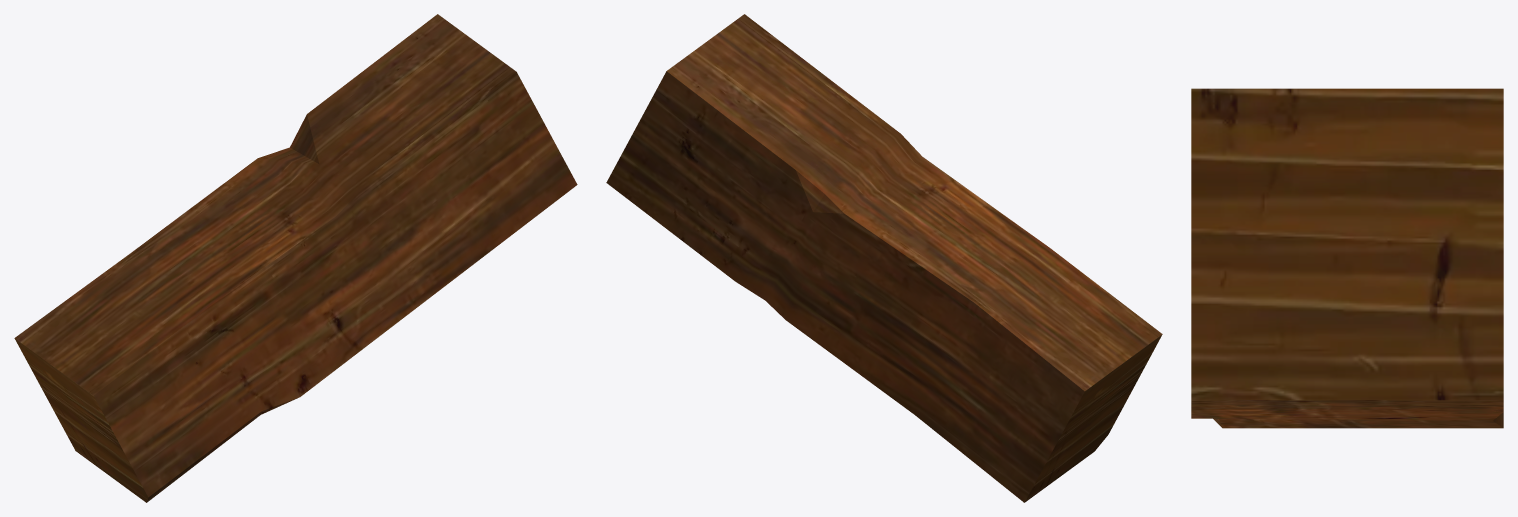
3 renders of one model, left to right at view 1: azimuth 30°, elevation 25°; view 2: azimuth 150°, elevation 25°; view 3: azimuth 270°, elevation 25°, orthographic. The views are drawn at different scales.
Parts seen in each view (by area): view 1: SM_BB_T2_BeamThick_Medium_Shallow_LOD0; view 2: SM_BB_T2_BeamThick_Medium_Shallow_LOD0; view 3: SM_BB_T2_BeamThick_Medium_Shallow_LOD0.
Boxes of the visible parts, left/top/right/bottom form: SM_BB_T2_BeamThick_Medium_Shallow_LOD0: left=14, top=14, right=577, bottom=502; SM_BB_T2_BeamThick_Medium_Shallow_LOD0: left=606, top=14, right=1162, bottom=502; SM_BB_T2_BeamThick_Medium_Shallow_LOD0: left=1191, top=88, right=1503, bottom=428.
Size of the model in its own units: 1.73 by 1.19 by 0.4873.
Materials: 1 (1 with a texture image).
